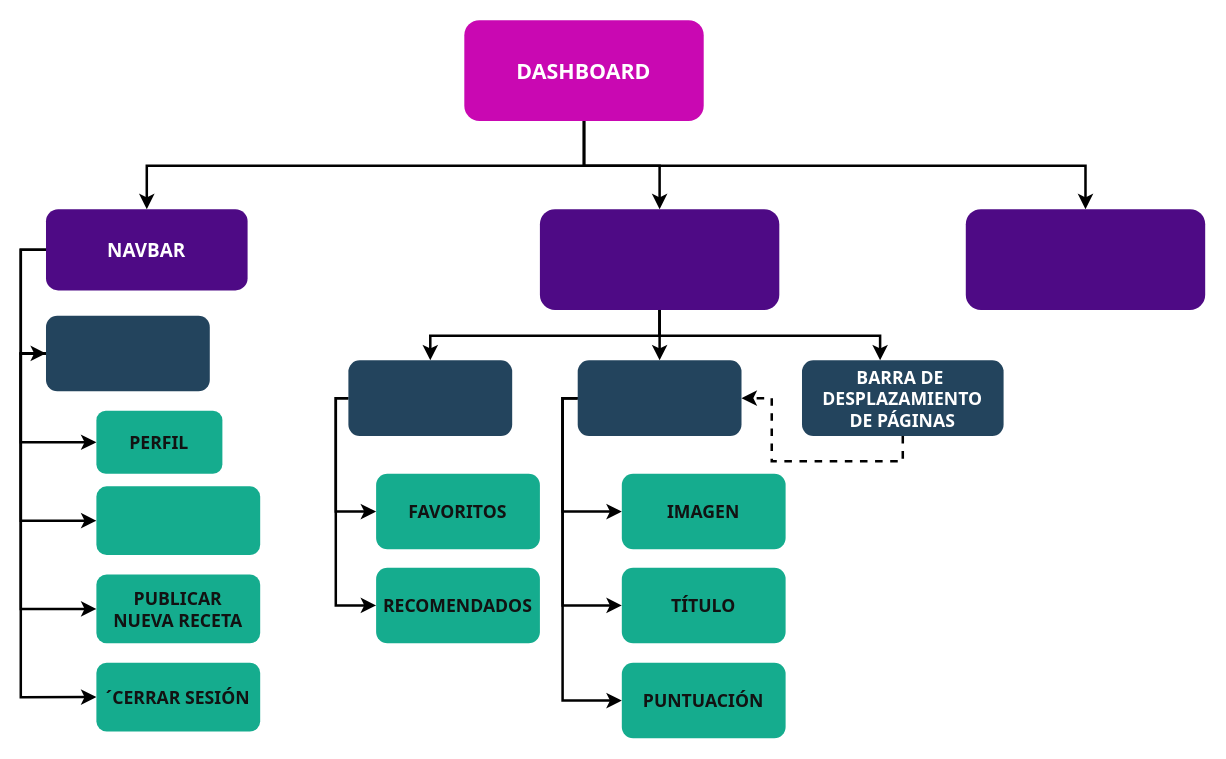
This 1226x759 diagram has some shape labels left out. Each missing label, with the centre of its shape:
"Cuenta" belongs at point 127,353.
"FILTROS" belongs at point 430,397.
"FOOTER" belongs at point 1085,259.
"MIS FAVORITOS" belongs at point 178,520.
"SECCIÓN PRINCIPAL" belongs at point 659,259.
"VISTA PREVIA DE LAS RECETAS" belongs at point 659,397.
